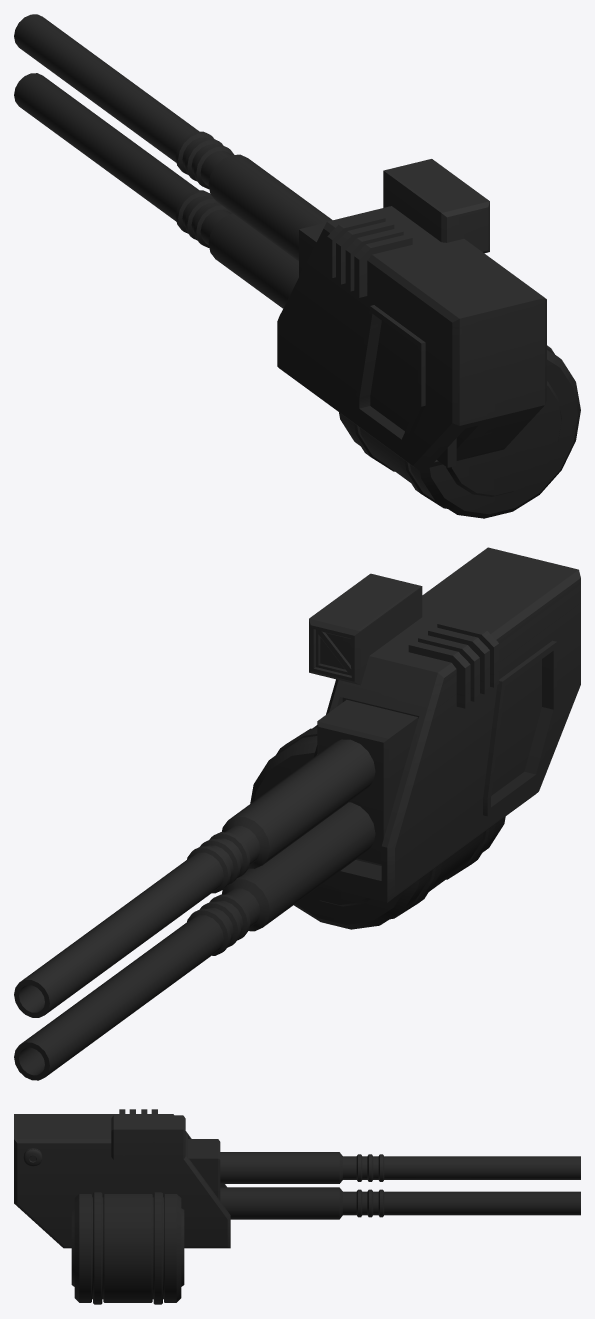
File: autocannon_r.glb
The picture shows the model from 3 angles, top to bottom: view 1: azimuth 30°, elevation 25°; view 2: azimuth 150°, elevation 25°; view 3: azimuth 270°, elevation 25°; orthographic projection. The views are drawn at different scales.
Visible parts, largest first — view 1: Battle_mech_03_R_weapon_poly; view 2: Battle_mech_03_R_weapon_poly; view 3: Battle_mech_03_R_weapon_poly.
Boxes of the visible parts, x1,y1,x2,y2 form: Battle_mech_03_R_weapon_poly: [14, 14, 580, 518]; Battle_mech_03_R_weapon_poly: [14, 547, 580, 1080]; Battle_mech_03_R_weapon_poly: [14, 1109, 580, 1304].
Size of the model in its own units: 1.09 by 1.59 by 4.67.
1 material, 1 textured.
